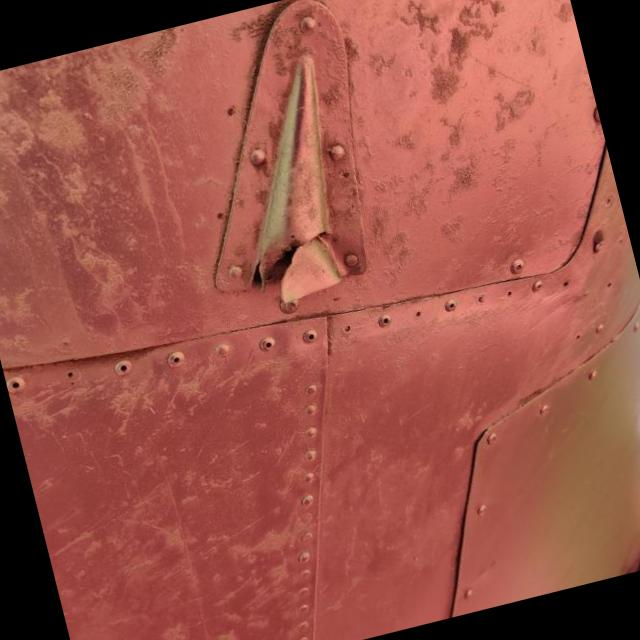Crack: (270, 231, 344, 307), (250, 259, 264, 291)
